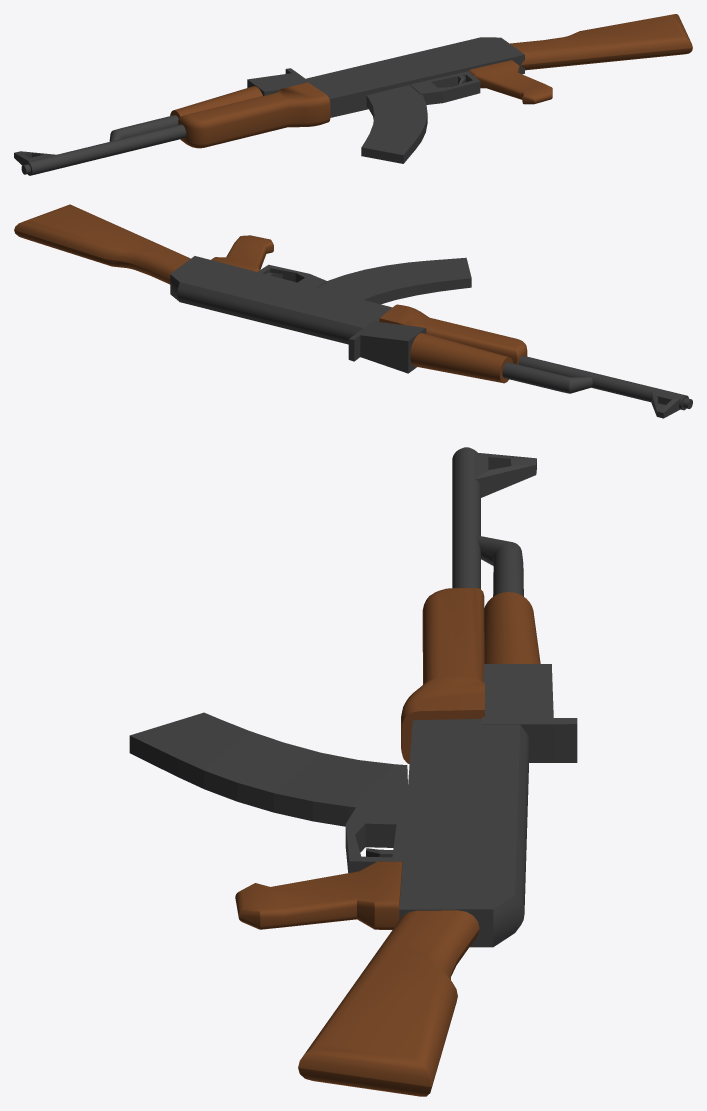
The picture shows the model from 3 angles, top to bottom: view 1: azimuth 30°, elevation 25°; view 2: azimuth 150°, elevation 25°; view 3: azimuth 270°, elevation 25°; orthographic projection. The views are drawn at different scales.
Parts seen in each view (by area): view 1: Cube, Cube.007, Cube.003, Cube.001, Cylinder, Cube.006, Cylinder.001, Cube.005, Cube.004, Cube.002; view 2: Cube, Cube.007, Cylinder.001, Cube.001, Cube.003, Cube.004, Cylinder, Cube.006, Cube.005, Cube.002; view 3: Cube, Cube.007, Cube.001, Cube.003, Cube.006, Cube.004, Cylinder.001, Cylinder, Cube.005, Cube.002.
Part boxes in pixels (bbox=[...]): Cube: bbox=[306, 37, 524, 117]; Cube.007: bbox=[510, 14, 692, 70]; Cube.003: bbox=[178, 82, 330, 148]; Cube.001: bbox=[361, 85, 427, 163]; Cylinder: bbox=[21, 124, 186, 175]; Cube.006: bbox=[468, 60, 552, 104]; Cylinder.001: bbox=[109, 86, 262, 141]; Cube.005: bbox=[410, 71, 480, 104]; Cube.004: bbox=[247, 68, 314, 95]; Cube.002: bbox=[14, 151, 55, 165]; Cube: bbox=[170, 256, 392, 344]; Cube.007: bbox=[14, 204, 190, 284]; Cylinder.001: bbox=[410, 333, 592, 393]; Cube.001: bbox=[318, 257, 471, 304]; Cube.003: bbox=[379, 304, 527, 364]; Cube.004: bbox=[348, 320, 426, 373]; Cylinder: bbox=[518, 355, 692, 410]; Cube.006: bbox=[211, 235, 273, 271]; Cube.005: bbox=[257, 264, 327, 287]; Cube.002: bbox=[651, 391, 680, 418]; Cube: bbox=[399, 719, 529, 947]; Cube.007: bbox=[298, 910, 479, 1096]; Cube.001: bbox=[129, 712, 407, 826]; Cube.003: bbox=[401, 588, 484, 764]; Cube.006: bbox=[235, 861, 402, 929]; Cube.004: bbox=[482, 664, 577, 762]; Cylinder.001: bbox=[476, 535, 540, 663]; Cylinder: bbox=[452, 447, 480, 589]; Cube.005: bbox=[345, 805, 406, 872]; Cube.002: bbox=[474, 452, 536, 497].
Size of the model in its own units: 483 by 21.92 by 145.
